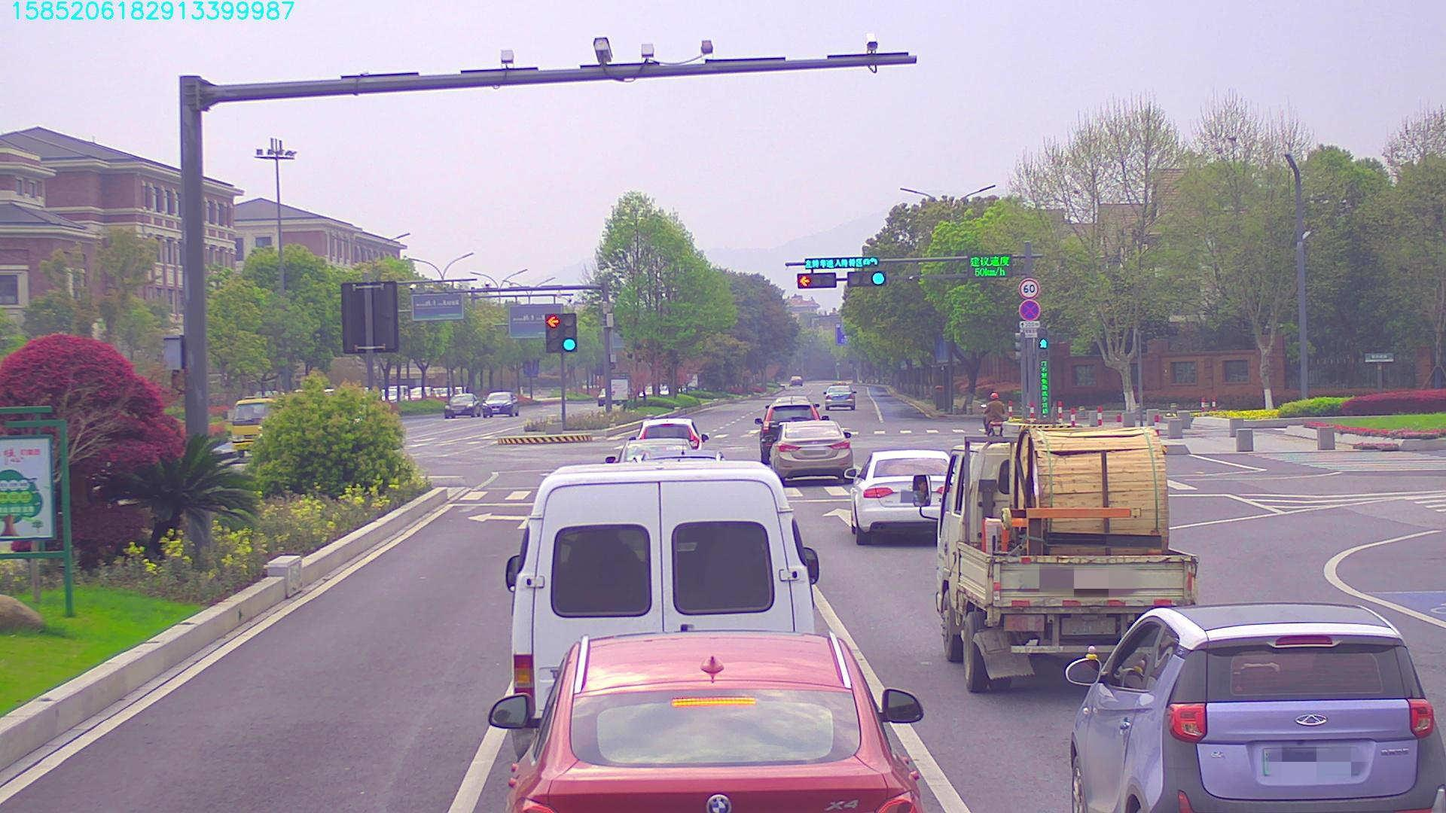green: (848, 271, 886, 288)
red: (792, 273, 840, 291)
wait_on: (804, 260, 880, 268)
